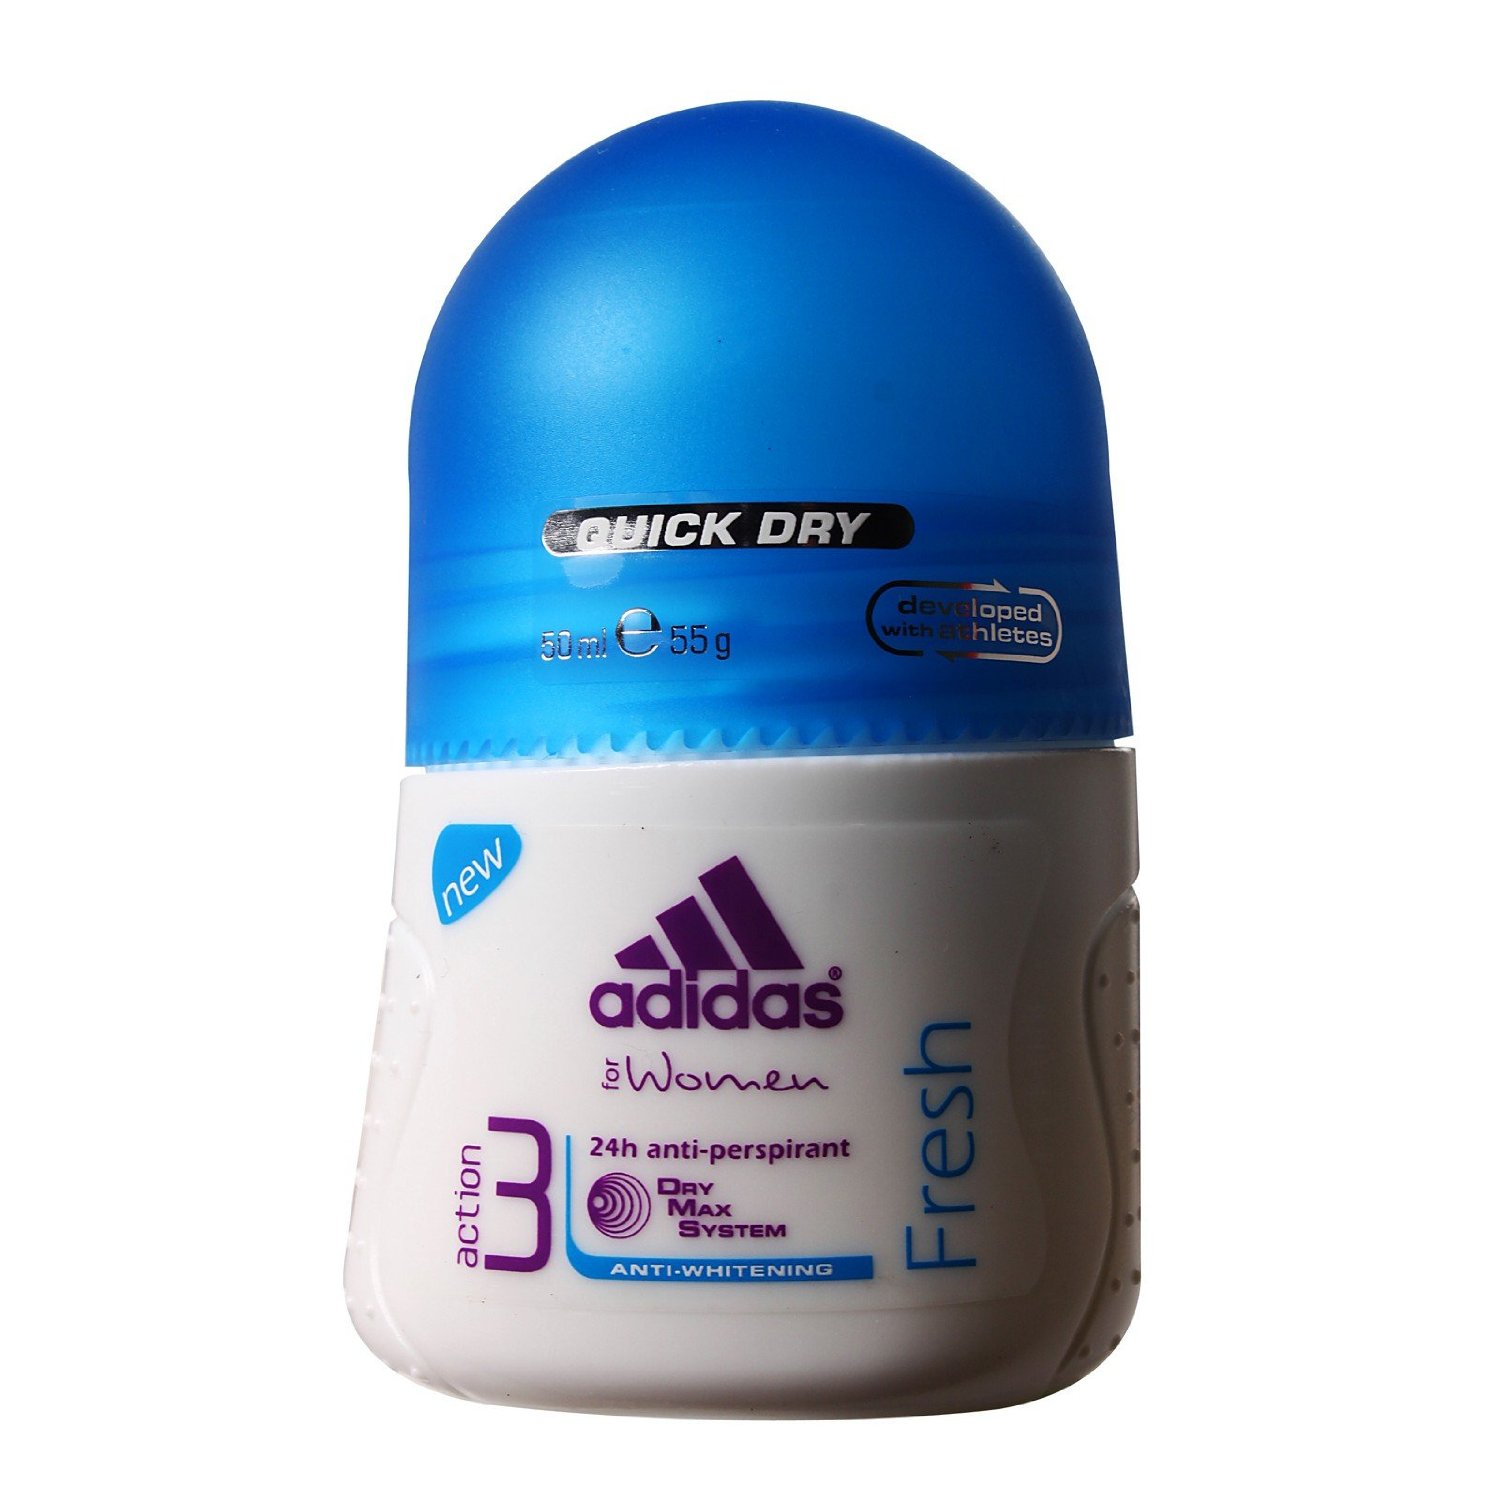Adidas: (582, 845, 859, 1034)
